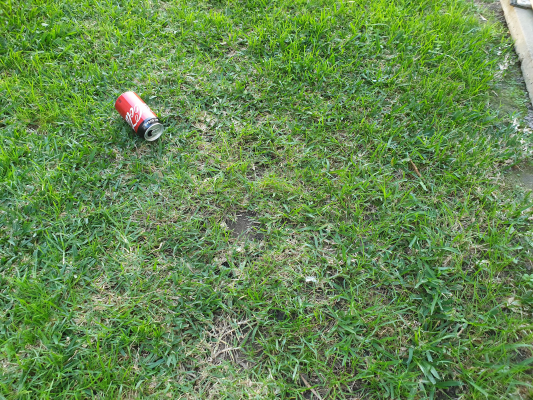Plastic Bottle: (115, 90, 164, 141)
